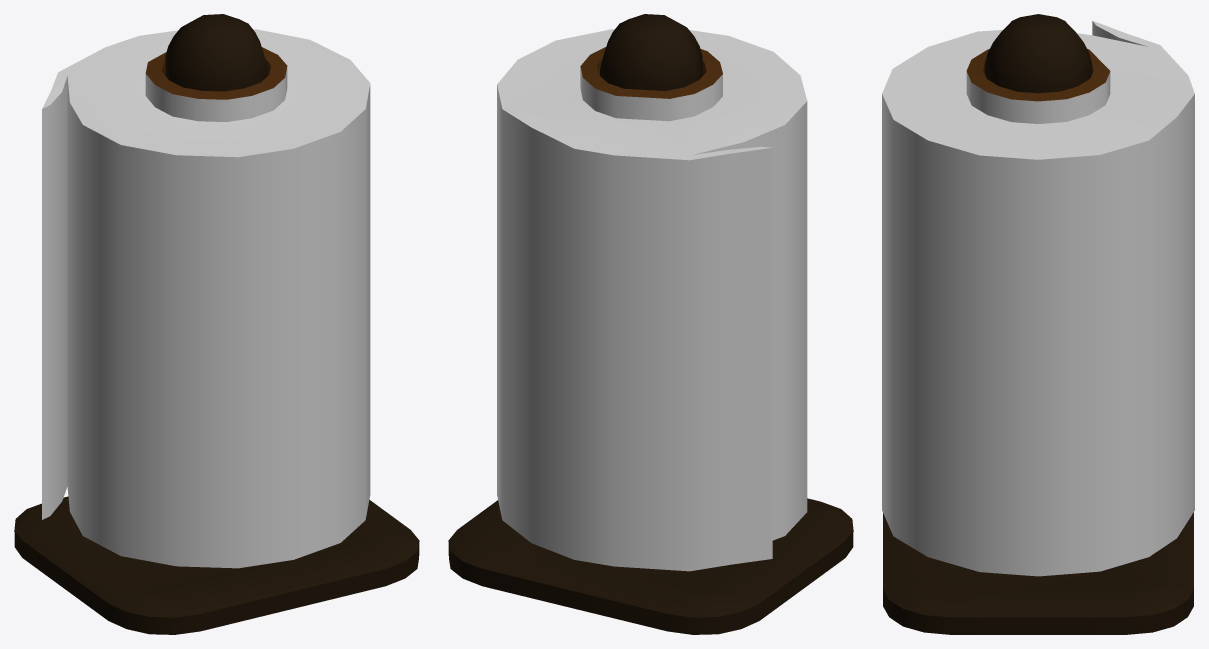
Rendered from RolloPape.fbx.
3 views of the same model, side by side, from view 1: azimuth 30°, elevation 25°; view 2: azimuth 150°, elevation 25°; view 3: azimuth 270°, elevation 25° (orthographic).
Visible parts, largest first — view 1: Rollo_Papel; view 2: Rollo_Papel; view 3: Rollo_Papel.
Part boxes in pixels (box(x1,y1,x2,y2)): Rollo_Papel: box(14, 14, 419, 634); Rollo_Papel: box(448, 14, 853, 634); Rollo_Papel: box(882, 14, 1194, 634).
Bounding box in the file's own units: 0.3626 × 0.6095 × 0.3208.
